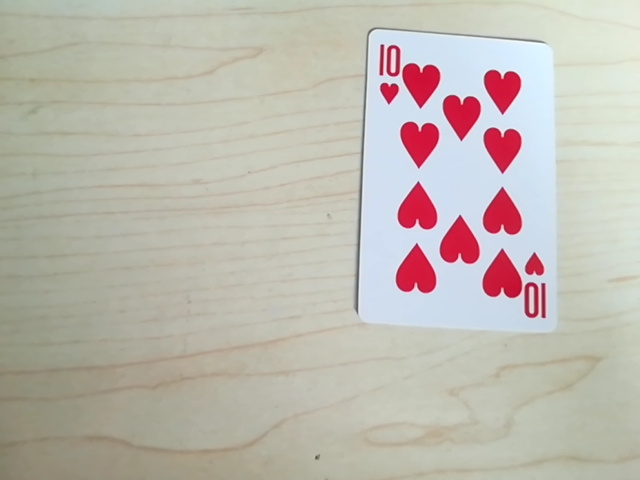hx 10: (515, 265, 548, 324), (373, 31, 405, 88)
